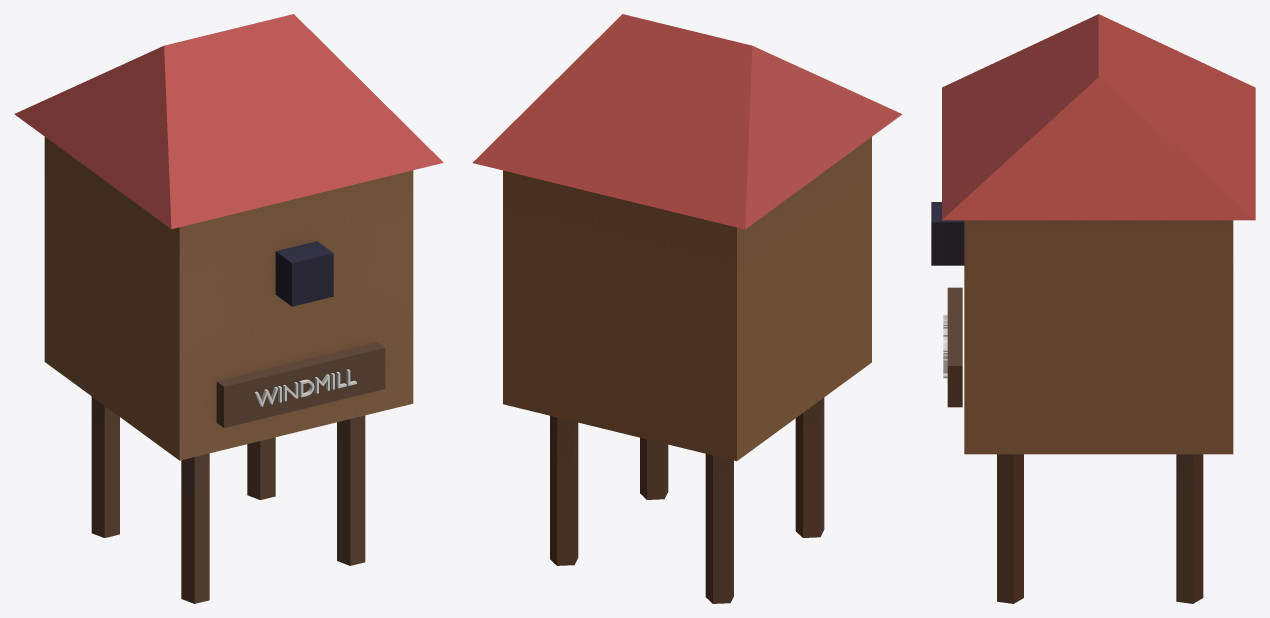
The model's file is home_windmill_1.fbx.
3 renders of one model, left to right at view 1: azimuth 30°, elevation 25°; view 2: azimuth 150°, elevation 25°; view 3: azimuth 270°, elevation 25°, orthographic.
Parts seen in each view (by area): view 1: home_windmill_1_body; view 2: home_windmill_1_body; view 3: home_windmill_1_body.
Boxes of the visible parts, x1,y1,x2,y2 form: home_windmill_1_body: (14, 14, 443, 603); home_windmill_1_body: (472, 14, 902, 603); home_windmill_1_body: (931, 14, 1255, 603).
Bounding box in the file's own units: 1050 × 1900 × 1085.
1 material, 1 textured.
